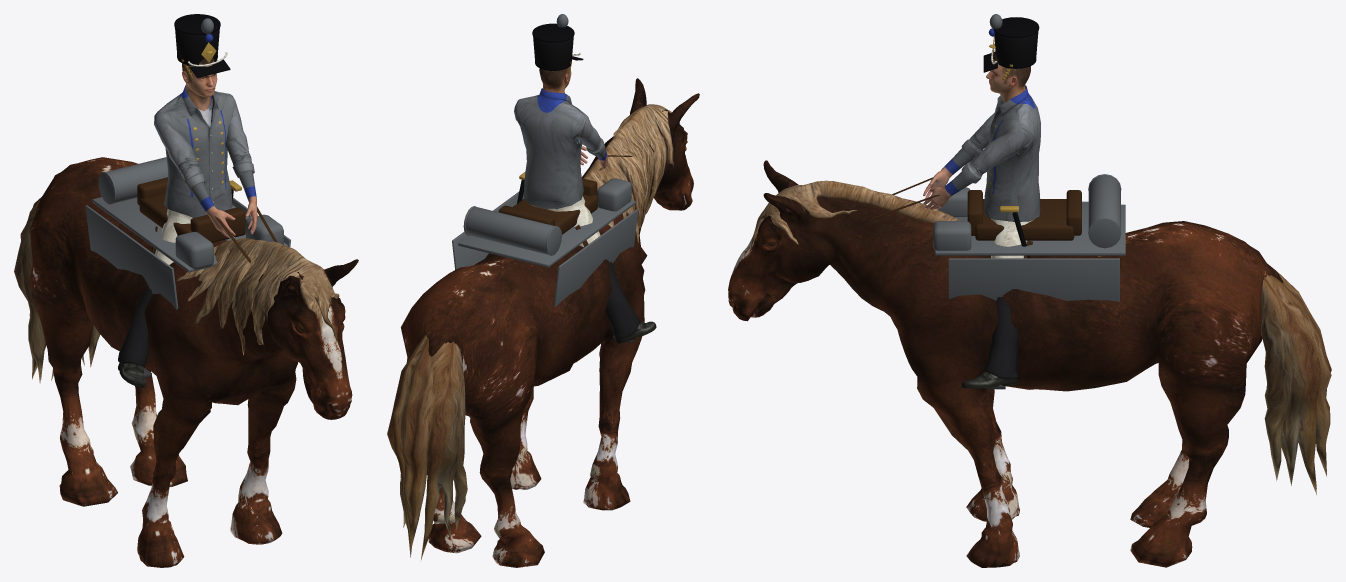
File: driver.glb
3 views of the same model, side by side, from view 1: azimuth 30°, elevation 25°; view 2: azimuth 150°, elevation 25°; view 3: azimuth 270°, elevation 25° (orthographic). The views are drawn at different scales.
Visible parts, largest first — view 1: mounted_bay; view 2: mounted_bay; view 3: mounted_bay.
Boxes of the visible parts, x1,y1,x2,y2 form: mounted_bay: (14,14,358,567); mounted_bay: (387,14,699,567); mounted_bay: (728,14,1331,567).
Bounding box in the file's own units: 1.09 × 3.04 × 3.17.
17 materials, 6 textured.
